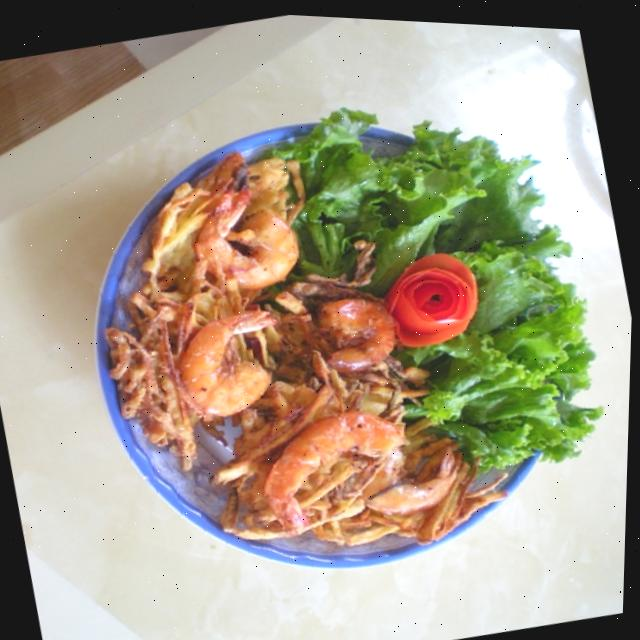炸货点心: (51, 45, 624, 628)
熟制海鲜: (51, 45, 624, 628)
